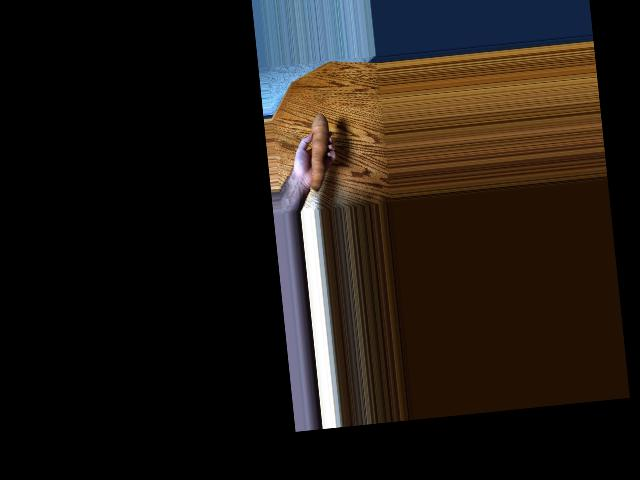sweet_potato: (302, 112, 339, 188)
